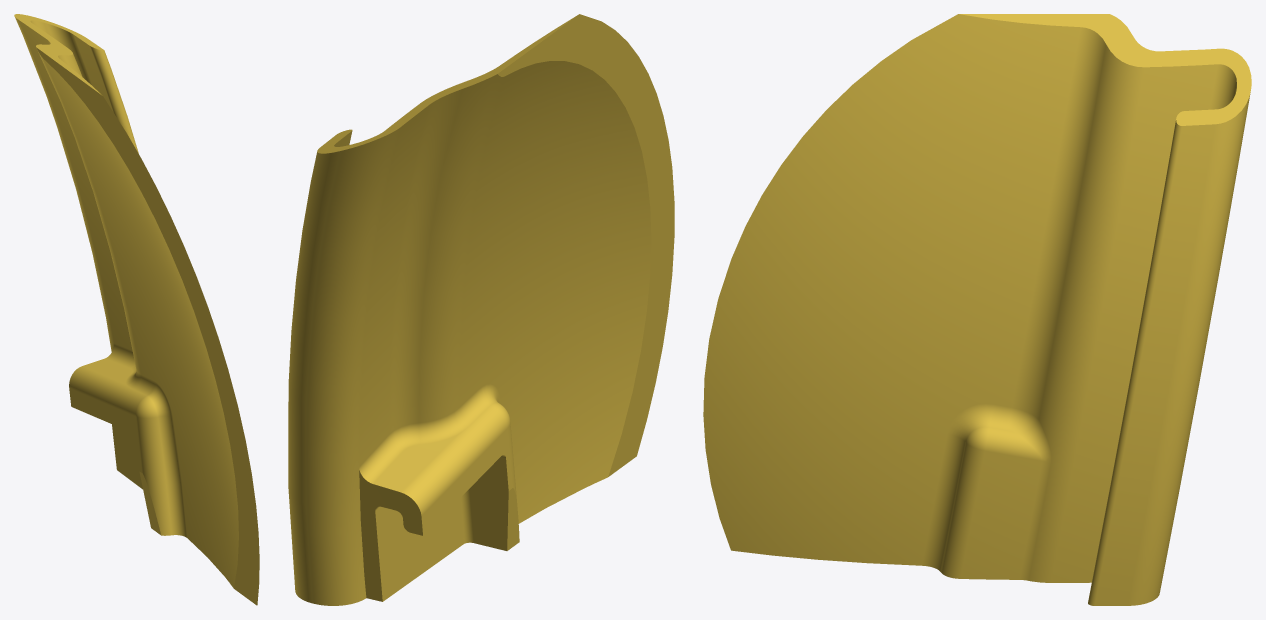
3 views of the same model, side by side, from view 1: azimuth 30°, elevation 25°; view 2: azimuth 150°, elevation 25°; view 3: azimuth 270°, elevation 25° (orthographic). The views are drawn at different scales.
Visible parts, largest first — view 1: Body1; view 2: Body1; view 3: Body1.
Boxes of the visible parts, left/top/right/bottom form: Body1: left=14, top=14, right=259, bottom=605; Body1: left=288, top=14, right=674, bottom=605; Body1: left=703, top=14, right=1251, bottom=605.
Bounding box in the file's own units: 0.2831 × 0.7883 × 0.7724.
